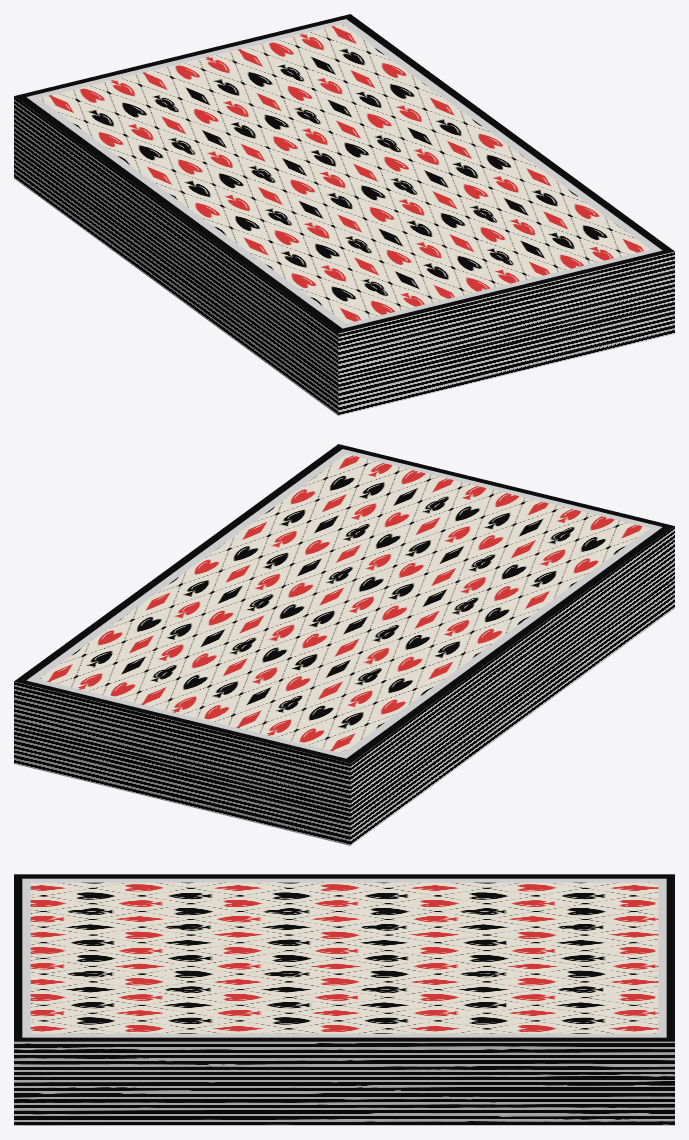
The model's file is Stack.glb.
3 views of the same model, one above another, from view 1: azimuth 30°, elevation 25°; view 2: azimuth 150°, elevation 25°; view 3: azimuth 270°, elevation 25° (orthographic).
Visible parts, largest first — view 1: Cube; view 2: Cube; view 3: Cube.
Boxes of the visible parts, left/top/right/bottom form: Cube: left=14, top=14, right=674, bottom=415; Cube: left=14, top=444, right=674, bottom=845; Cube: left=14, top=874, right=674, bottom=1125.
Bounding box in the file's own units: 2.13 × 0.4973 × 3.55.
Materials: 4 (2 with a texture image).
